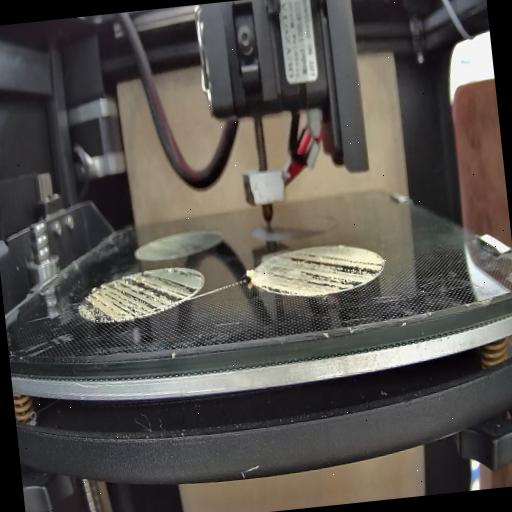under_extrusion: (80, 262, 206, 321)
